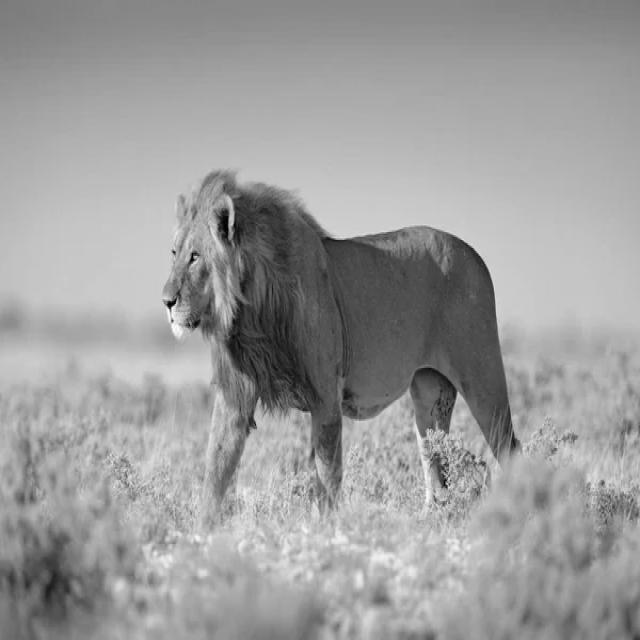Animal: (162, 172, 519, 530)
